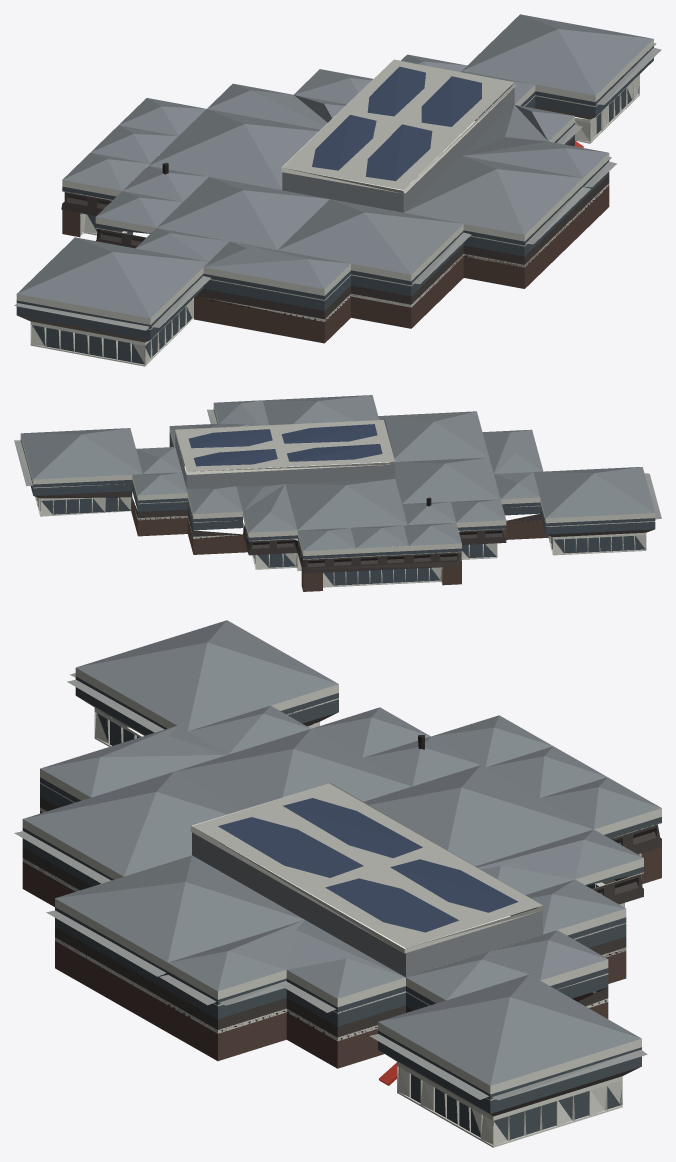
Rendered from tolhuis-paviljoen.lod1.glb.
3 renders of one model, top to bottom at view 1: azimuth 30°, elevation 25°; view 2: azimuth 150°, elevation 25°; view 3: azimuth 270°, elevation 25°, orthographic. The views are drawn at different scales.
Visible parts, largest first — view 1: tolhuis-paviljoen; view 2: tolhuis-paviljoen; view 3: tolhuis-paviljoen.
Boxes of the visible parts, x1=… form: tolhuis-paviljoen: x1=14, y1=14, x2=661, y2=366; tolhuis-paviljoen: x1=14, y1=395, x2=661, y2=591; tolhuis-paviljoen: x1=14, y1=620, x2=661, y2=1147.
Size of the model in its own units: 94.25 by 9.6 by 54.54.
